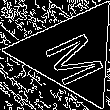M_NE: (34, 22, 108, 85)
